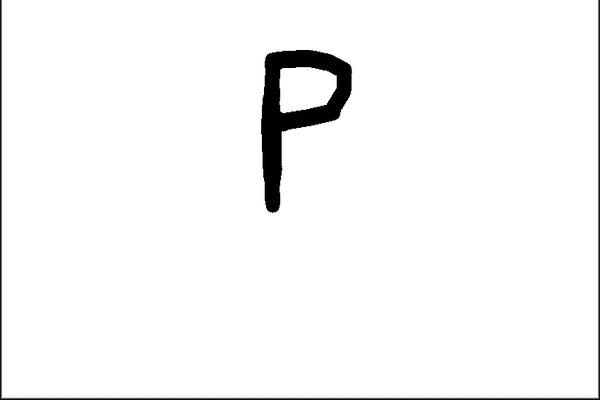P: (254, 37, 355, 220)
